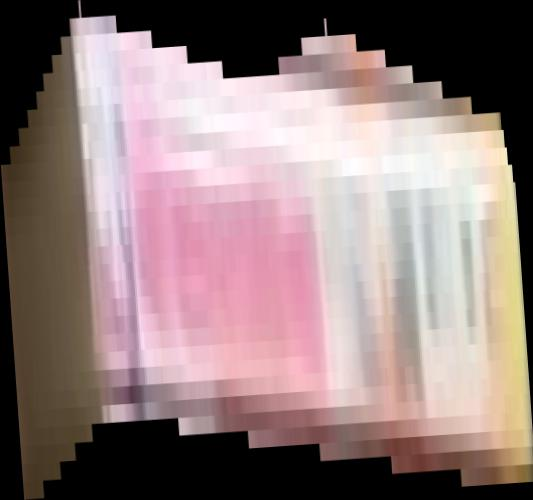flat: (1, 1, 533, 500)
